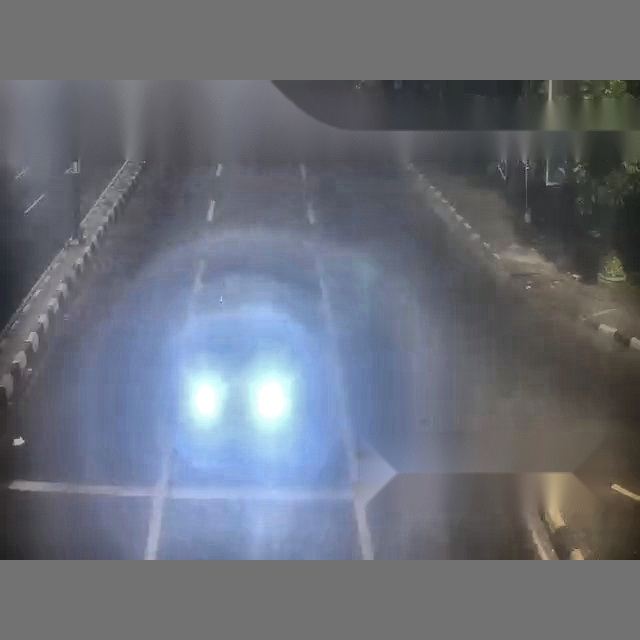Bis: (28, 60, 577, 556)
